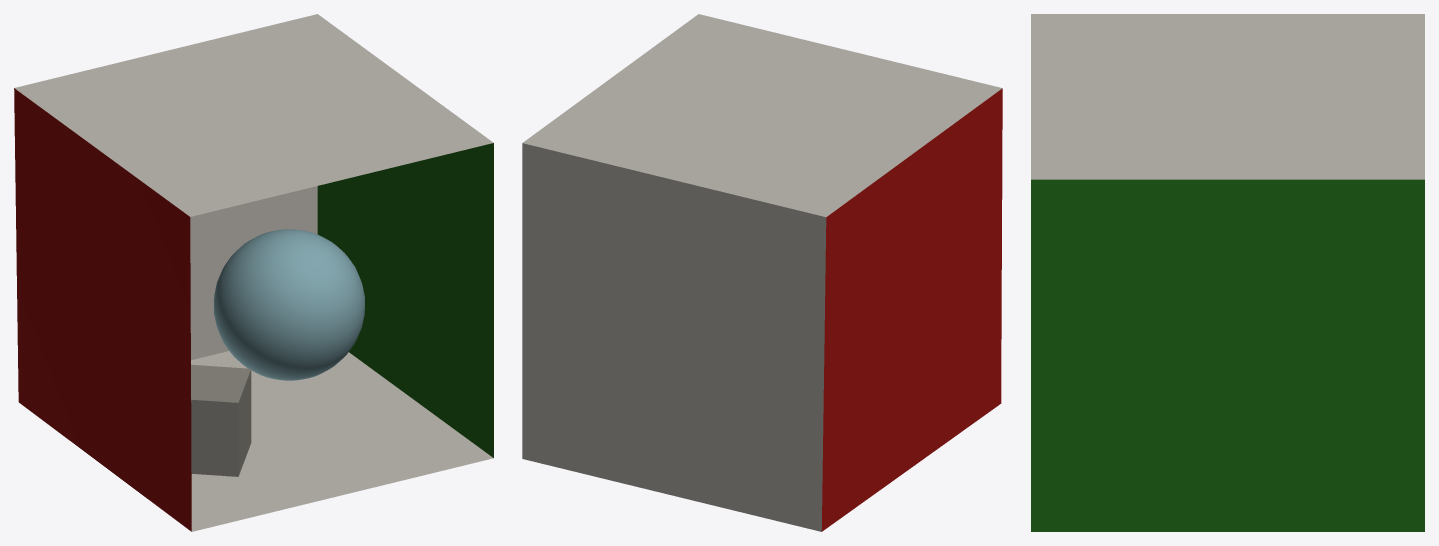
File: Cornell_box_glossy.obj
3 views of the same model, side by side, from view 1: azimuth 30°, elevation 25°; view 2: azimuth 150°, elevation 25°; view 3: azimuth 270°, elevation 25° (orthographic). The views are drawn at different scales.
Visible parts, largest first — view 1: CornellBox-Glossy_CornellBox-Glossy_leftWall.002, CornellBox-Glossy_CornellBox-Glossy_ceiling.002, CornellBox-Glossy_CornellBox-Glossy_rightWall.002, CornellBox-Glossy_CornellBox-Glossy_floor.002, CornellBox-Glossy_CornellBox-Glossy_sphere, CornellBox-Glossy_CornellBox-Glossy_backWall.002, CornellBox-Glossy_CornellBox-Glossy_shortBox.001; view 2: CornellBox-Glossy_CornellBox-Glossy_backWall.002, CornellBox-Glossy_CornellBox-Glossy_leftWall.002, CornellBox-Glossy_CornellBox-Glossy_ceiling.002; view 3: CornellBox-Glossy_CornellBox-Glossy_rightWall.002, CornellBox-Glossy_CornellBox-Glossy_ceiling.002.
Boxes of the visible parts, box(x1,y1,x2,y2) form: CornellBox-Glossy_CornellBox-Glossy_leftWall.002: box(14, 88, 191, 531); CornellBox-Glossy_CornellBox-Glossy_ceiling.002: box(14, 14, 493, 216); CornellBox-Glossy_CornellBox-Glossy_rightWall.002: box(317, 143, 493, 457); CornellBox-Glossy_CornellBox-Glossy_floor.002: box(191, 351, 493, 531); CornellBox-Glossy_CornellBox-Glossy_sphere: box(214, 229, 364, 380); CornellBox-Glossy_CornellBox-Glossy_backWall.002: box(190, 186, 317, 359); CornellBox-Glossy_CornellBox-Glossy_shortBox.001: box(191, 364, 251, 476); CornellBox-Glossy_CornellBox-Glossy_backWall.002: box(522, 143, 826, 531); CornellBox-Glossy_CornellBox-Glossy_leftWall.002: box(821, 88, 1002, 531); CornellBox-Glossy_CornellBox-Glossy_ceiling.002: box(523, 14, 1002, 216); CornellBox-Glossy_CornellBox-Glossy_rightWall.002: box(1031, 179, 1424, 531); CornellBox-Glossy_CornellBox-Glossy_ceiling.002: box(1031, 14, 1424, 179).
Bounding box in the file's own units: 2.02 × 2.01 × 2.03.
